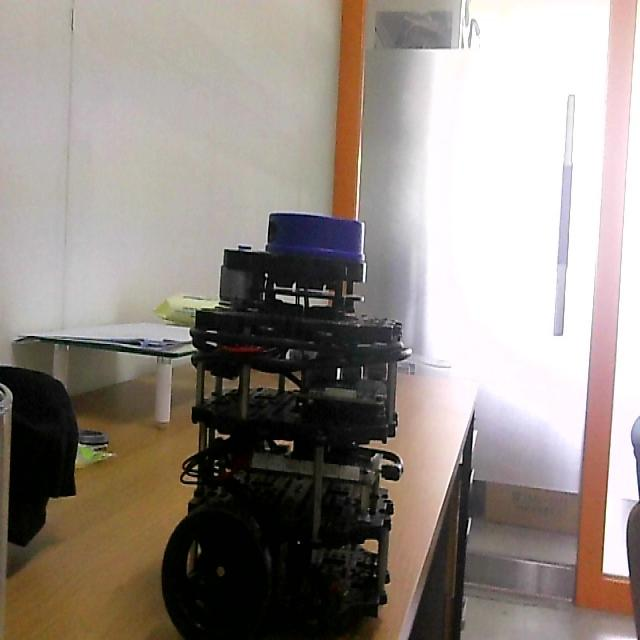turtle: (158, 209, 413, 640)
